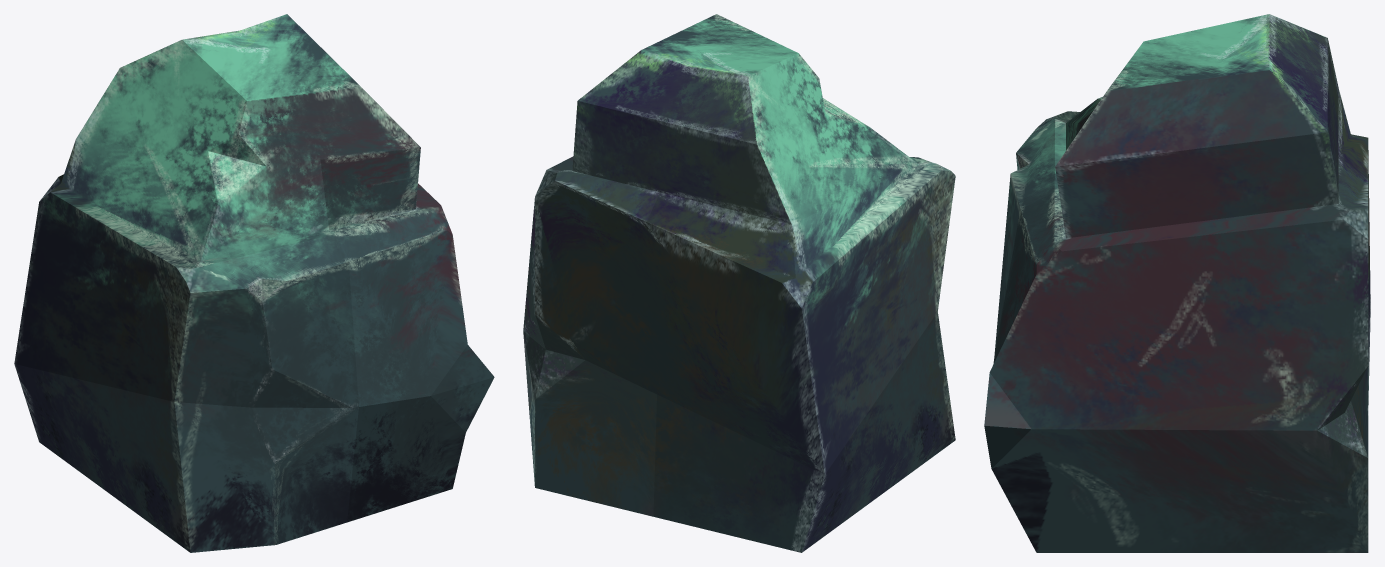
Rendered from Rock 1.fbx.
The picture shows the model from 3 angles, left to right: view 1: azimuth 30°, elevation 25°; view 2: azimuth 150°, elevation 25°; view 3: azimuth 270°, elevation 25°; orthographic projection. The views are drawn at different scales.
Parts seen in each view (by area): view 1: Rock 1; view 2: Rock 1; view 3: Rock 1.
Boxes of the visible parts, box(x1,y1,x2,y2) form: Rock 1: box(14, 14, 494, 552); Rock 1: box(523, 14, 955, 552); Rock 1: box(984, 14, 1370, 552).
Bounding box in the file's own units: 245 × 300 × 233.
Materials: 1 (1 with a texture image).
